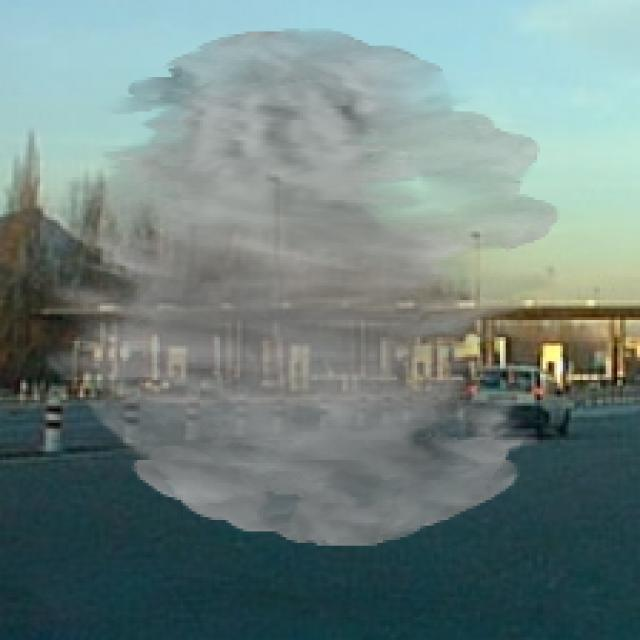smoke: (37, 28, 560, 546)
